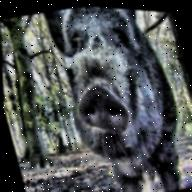boar: (22, 2, 192, 192)
